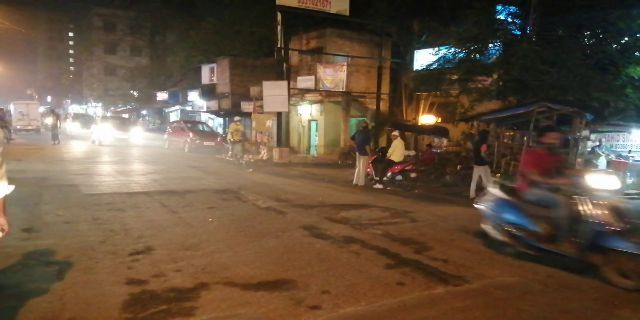Car: (159, 110, 226, 155)
Motorbike: (474, 125, 637, 280)
